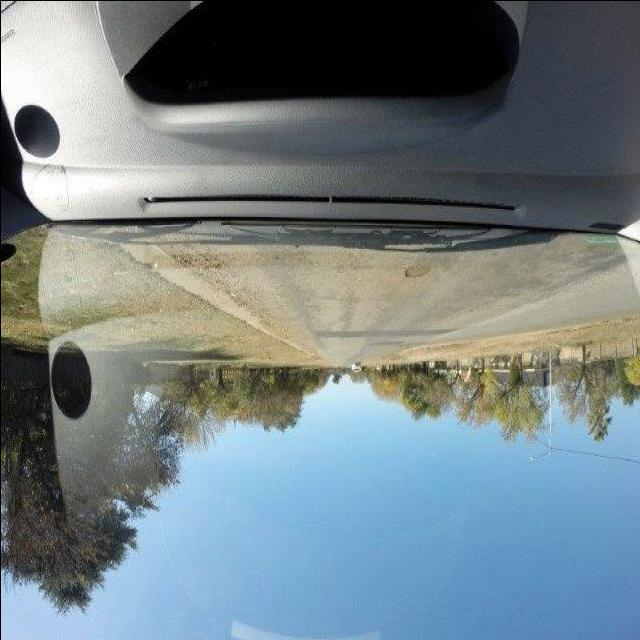lubang: (400, 258, 433, 282)
